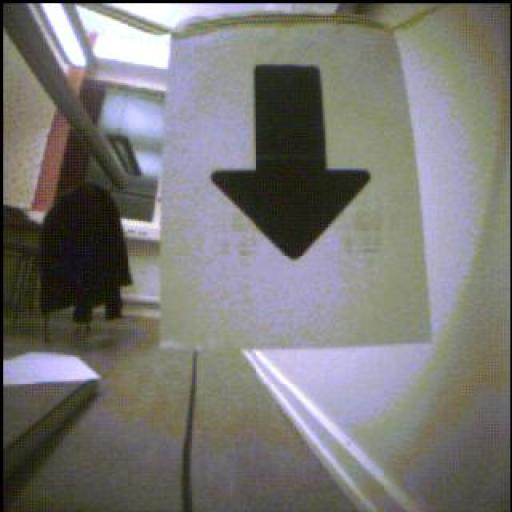Arrow: (212, 67, 371, 260)
